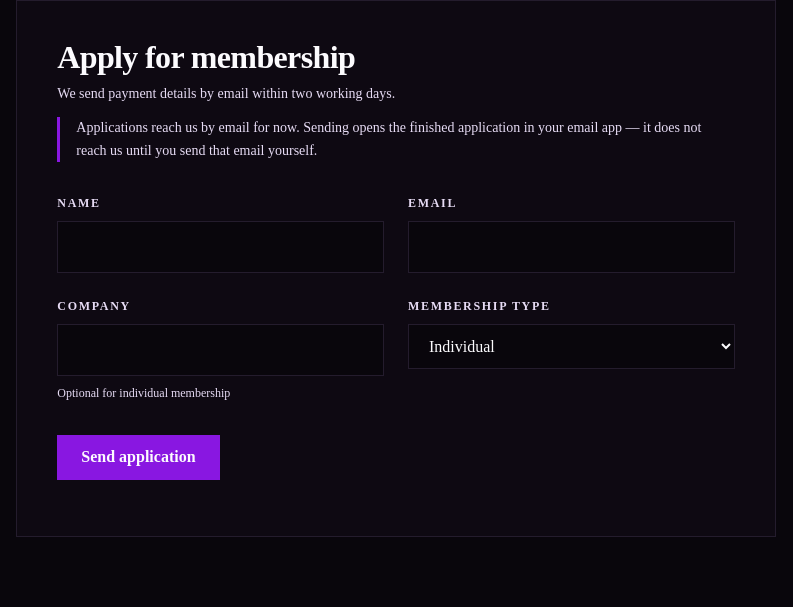
Test: MembershipForm (en) › rejects an address that is not one
Type "Anna" into the field labelled "Name" at [221, 247], box [57, 221, 384, 273]
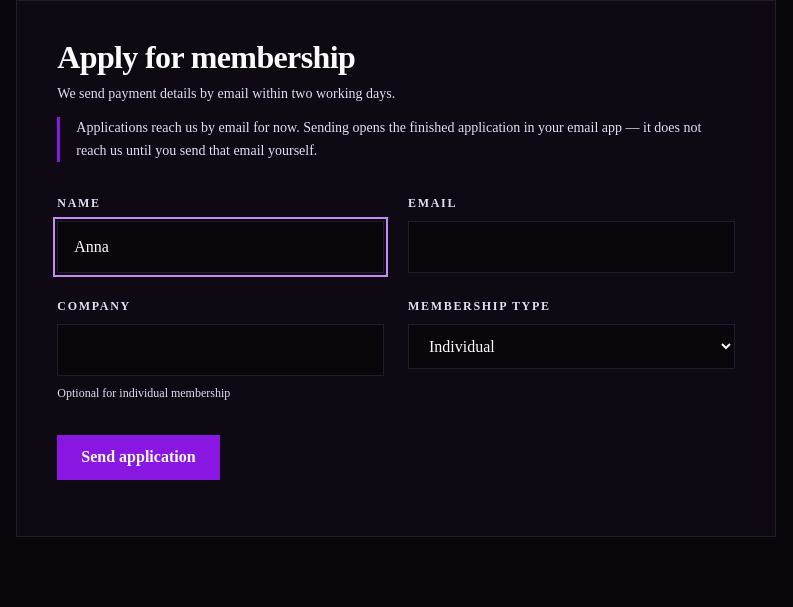
Type "anna@" into the field labelled "Email" at [571, 247], box [408, 221, 735, 273]
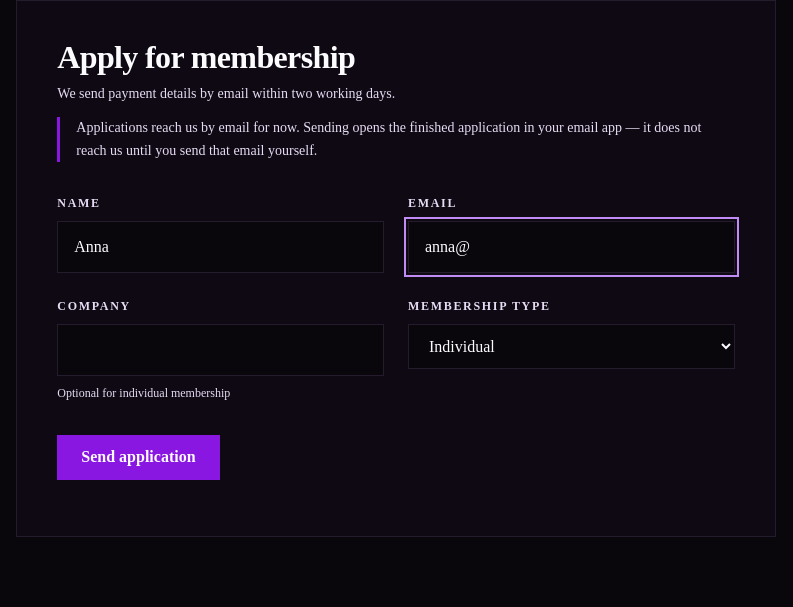
Click the button "Send application" at [138, 457], box [57, 435, 220, 480]
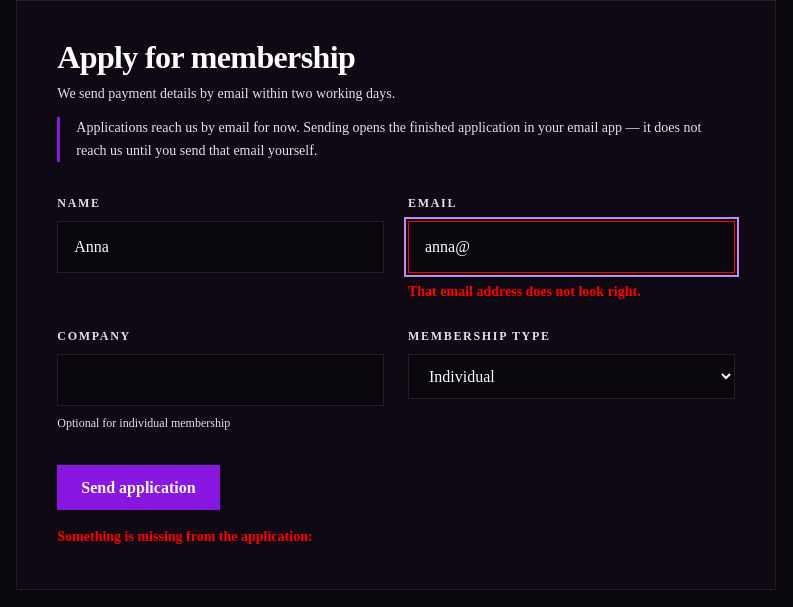
Result: the text "That email address does not look right." is shown at [408, 284, 641, 299]
